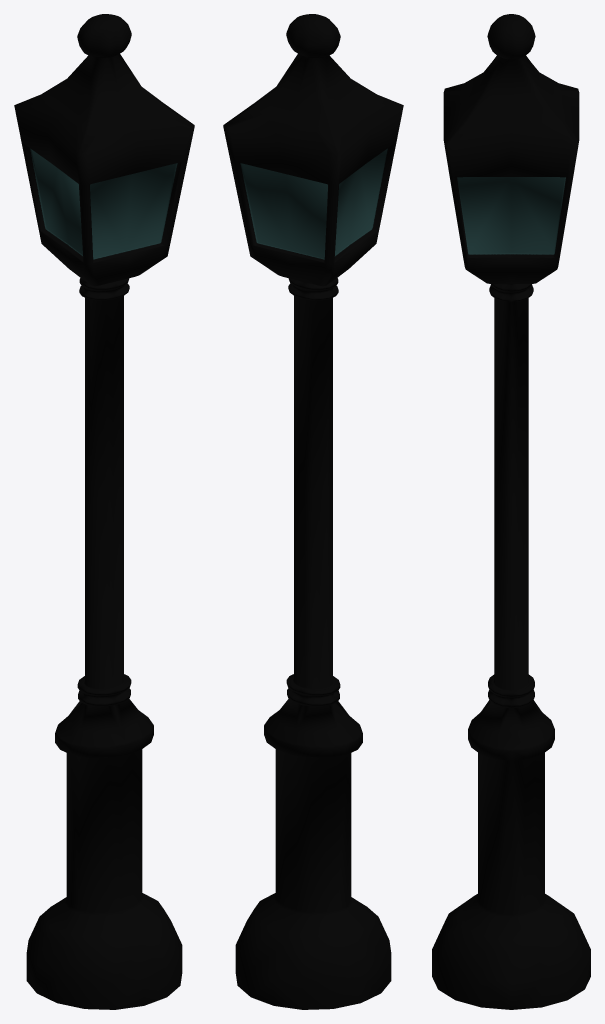
The model's file is lamp.obj.
3 renders of one model, left to right at view 1: azimuth 30°, elevation 25°; view 2: azimuth 150°, elevation 25°; view 3: azimuth 270°, elevation 25°, orthographic.
Visible parts, largest first — view 1: lamp; view 2: lamp; view 3: lamp.
Boxes of the visible parts, x1=… form: lamp: x1=14, y1=14, x2=194, y2=1009; lamp: x1=223, y1=14, x2=403, y2=1009; lamp: x1=432, y1=14, x2=590, y2=1009.
Size of the model in its own units: 1.33 by 9 by 1.35.
Materials: 1 (1 with a texture image).
